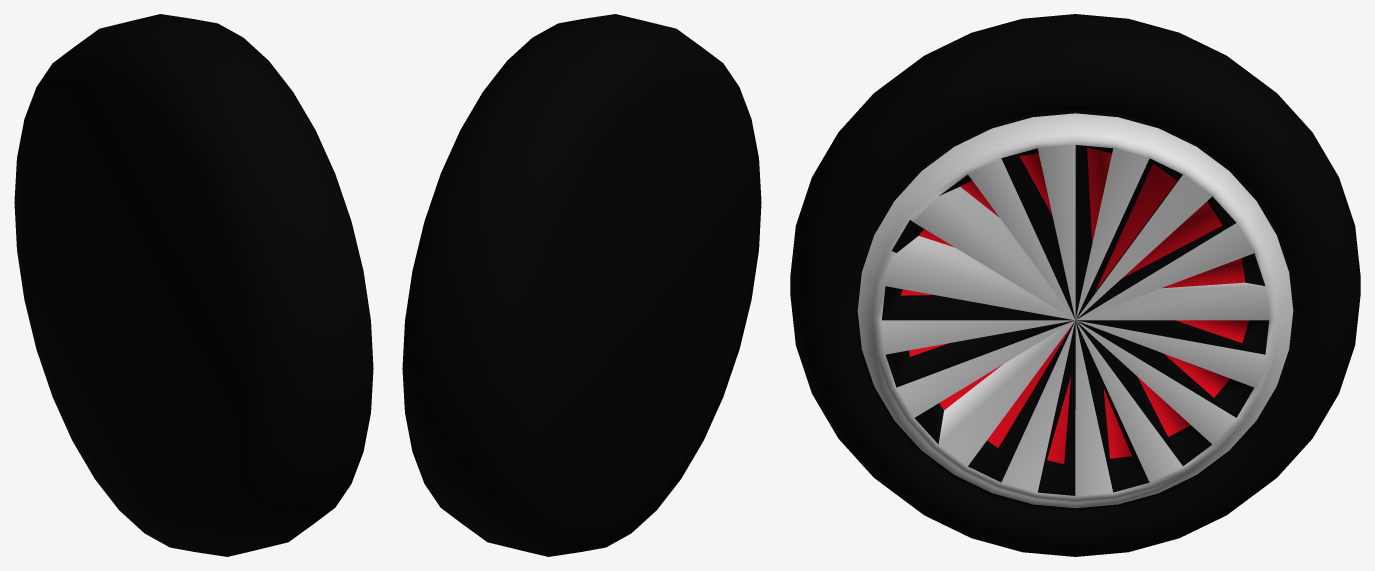
The model's file is right e-car wheel.fbx.
3 views of the same model, side by side, from view 1: azimuth 30°, elevation 25°; view 2: azimuth 150°, elevation 25°; view 3: azimuth 270°, elevation 25° (orthographic). The views are drawn at different scales.
Parts seen in each view (by area): view 1: right e-car wheel; view 2: right e-car wheel; view 3: right e-car wheel.
Boxes of the visible parts, x1,y1,x2,y2 form: right e-car wheel: (14,14,373,556); right e-car wheel: (402,14,761,556); right e-car wheel: (790,14,1360,556).
Size of the model in its own units: 0.2913 by 1.07 by 1.07.
